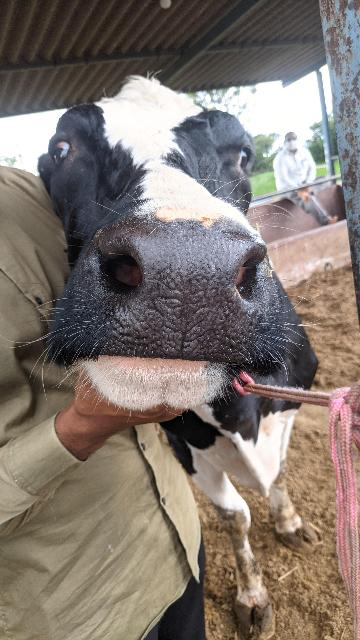Muzzle: (96, 224, 254, 352)
